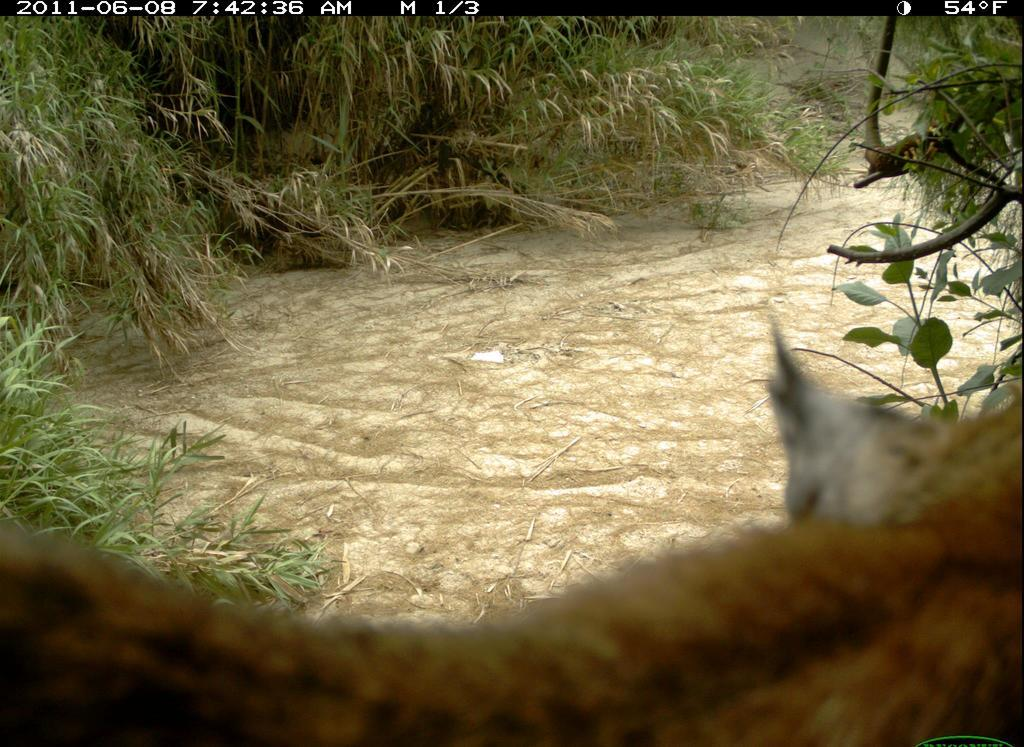bobcat: (1, 310, 1023, 747)
